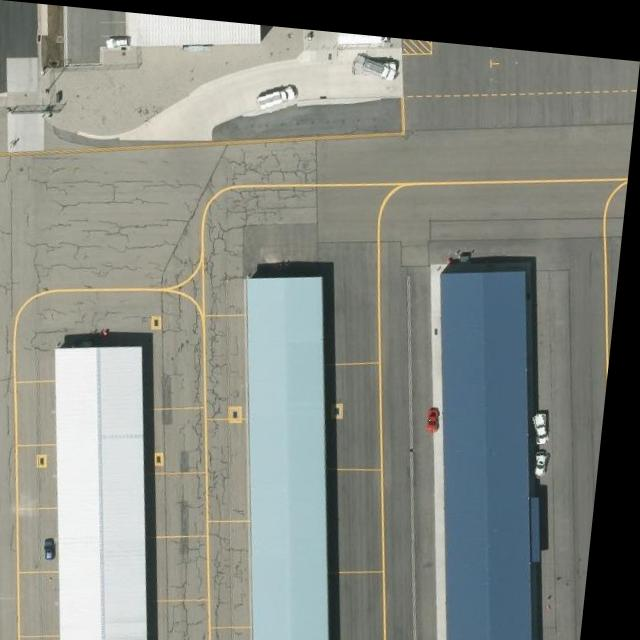vehicle: (255, 77, 301, 109), (352, 47, 401, 77), (539, 403, 559, 432), (541, 438, 560, 468), (432, 399, 449, 423), (106, 34, 134, 48), (56, 537, 68, 557)
